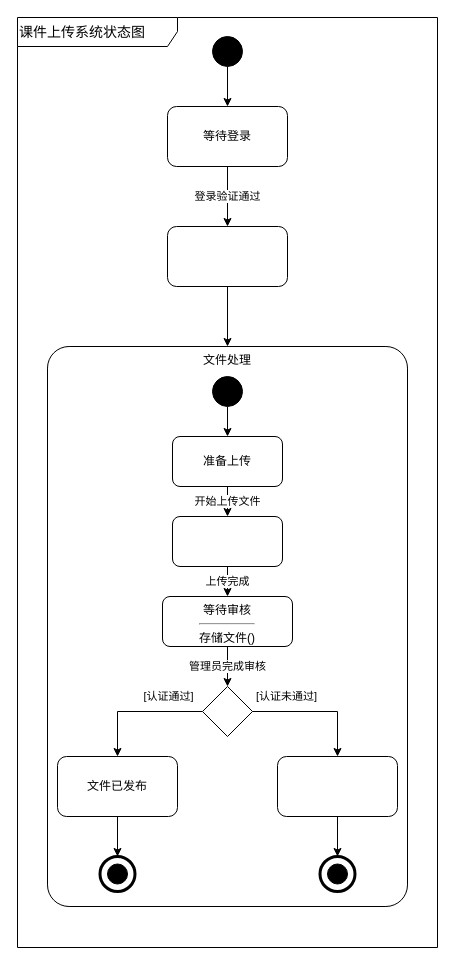
This 455x965 diagram has some shape labels left out. Each missing label, with the centre of its shape:
文件上传中: point 227,541
文件未通过认证: point 337,786
用户已认证: point 227,256
